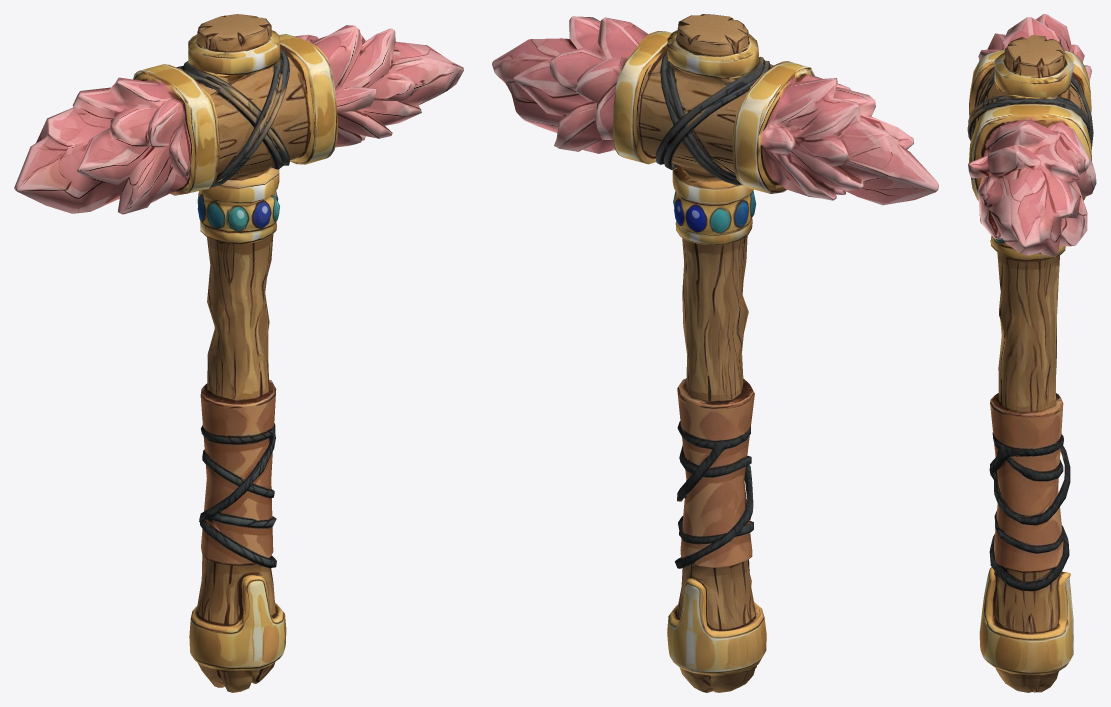
Rendered from pickhead.glb.
3 renders of one model, left to right at view 1: azimuth 30°, elevation 25°; view 2: azimuth 150°, elevation 25°; view 3: azimuth 270°, elevation 25°, orthographic. The views are drawn at different scales.
Bounding box in the file's own units: 0.7033 × 1 × 0.1818.
1 material, 1 textured.
